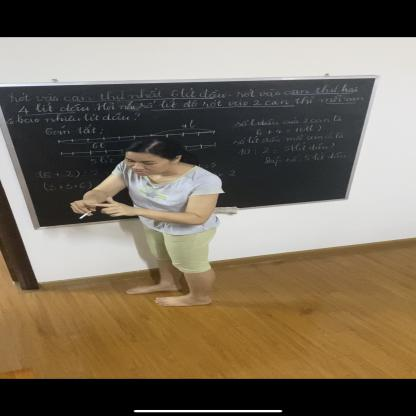cigarette: (78, 212, 90, 220)
person: (70, 135, 226, 312)
